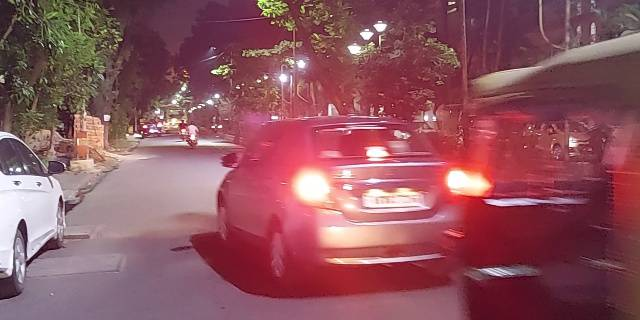Car: (215, 115, 462, 285)
Motorbike: (183, 120, 202, 151)
